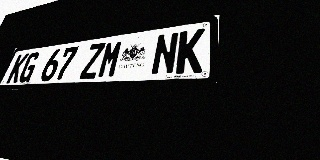6: (39, 48, 64, 82)
7: (53, 46, 79, 81)
G: (17, 51, 41, 83)
K: (175, 28, 205, 74), (6, 53, 29, 83)
M: (96, 40, 124, 78)
N: (150, 32, 179, 75)
Z: (79, 42, 106, 79)
